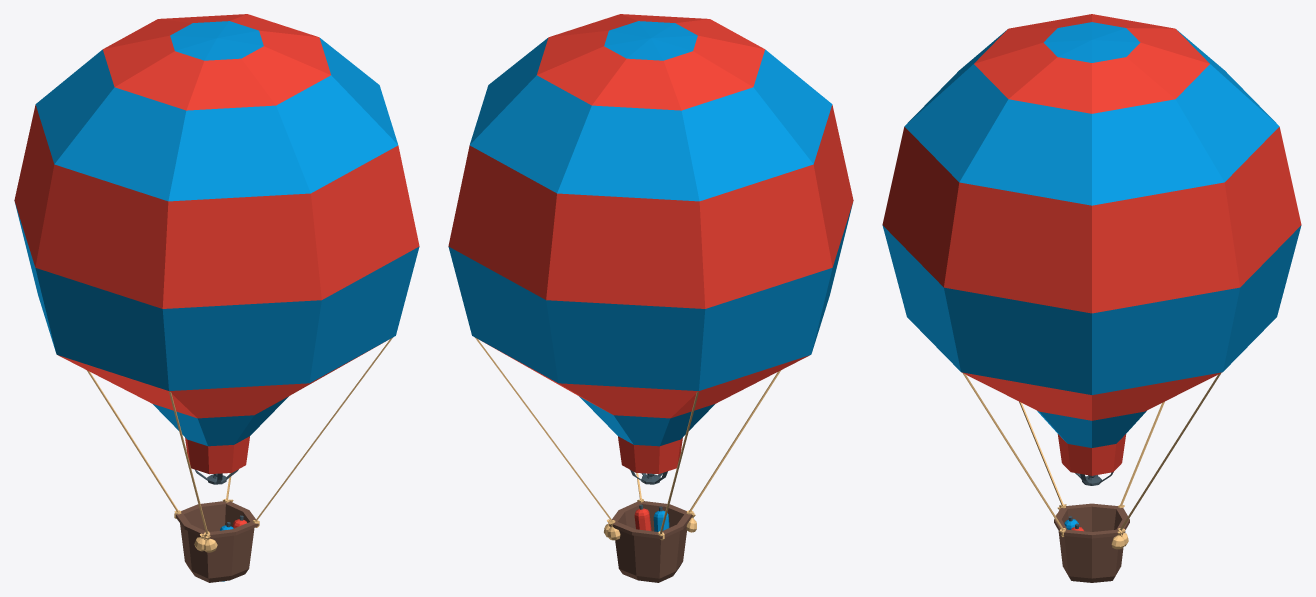
File: HotAirBalloon2.glb
The picture shows the model from 3 angles, left to right: view 1: azimuth 30°, elevation 25°; view 2: azimuth 150°, elevation 25°; view 3: azimuth 270°, elevation 25°; orthographic projection.
Visible parts, largest first — view 1: Cube.031_Cube.032; view 2: Cube.031_Cube.032; view 3: Cube.031_Cube.032.
Boxes of the visible parts, x1=… form: Cube.031_Cube.032: x1=14, y1=14, x2=419, y2=582; Cube.031_Cube.032: x1=448, y1=14, x2=853, y2=582; Cube.031_Cube.032: x1=882, y1=14, x2=1301, y2=582.
Size of the model in its own units: 7.06 by 9.94 by 7.06.
